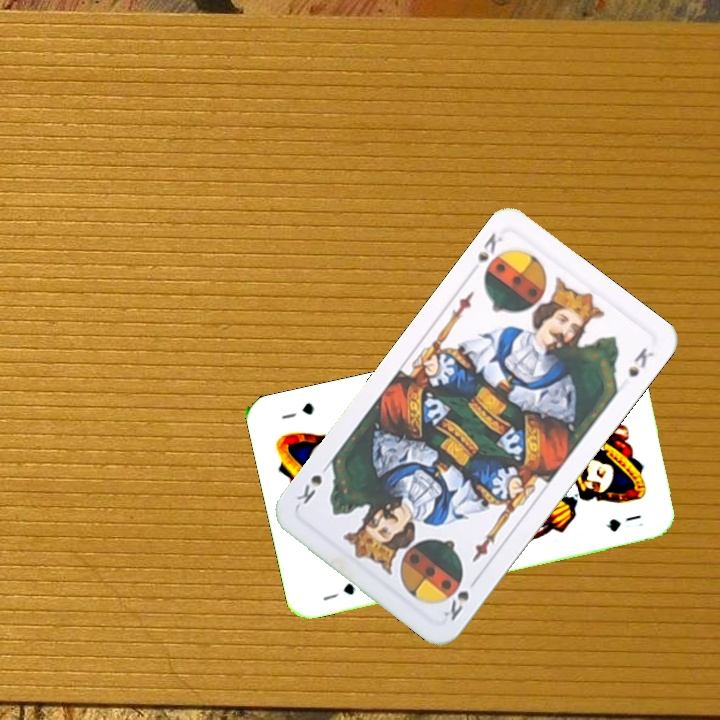GU: (319, 579, 357, 604)
SK: (439, 572, 472, 624), (473, 228, 505, 265)
